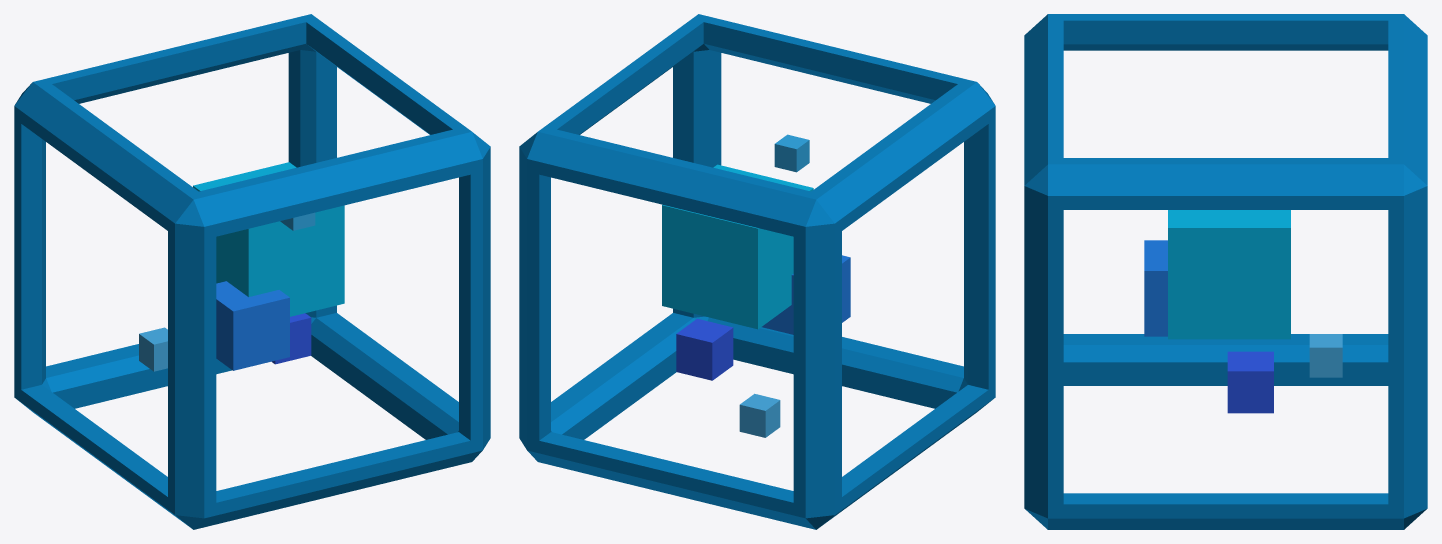
The model's file is GD3ItemBox.fbx.
3 views of the same model, side by side, from view 1: azimuth 30°, elevation 25°; view 2: azimuth 150°, elevation 25°; view 3: azimuth 270°, elevation 25° (orthographic). The views are drawn at different scales.
Parts seen in each view (by area): view 1: Cube, Cube.001, Cube.002, Cube.005, Cube.003; view 2: Cube, Cube.001, Cube.003, Cube.005, Cube.002, Cube.004; view 3: Cube, Cube.001, Cube.003, Cube.002, Cube.005.
Boxes of the visible parts, x1=… form: Cube: x1=14, y1=14, x2=490, y2=529; Cube.001: x1=193, y1=162, x2=344, y2=316; Cube.002: x1=216, y1=281, x2=289, y2=370; Cube.005: x1=139, y1=327, x2=167, y2=371; Cube.003: x1=272, y1=313, x2=311, y2=364; Cube: x1=519, y1=14, x2=995, y2=529; Cube.001: x1=662, y1=164, x2=813, y2=329; Cube.003: x1=676, y1=318, x2=733, y2=380; Cube.005: x1=739, y1=393, x2=780, y2=437; Cube.002: x1=762, y1=255, x2=850, y2=334; Cube.004: x1=774, y1=134, x2=809, y2=172; Cube: x1=1024, y1=14, x2=1427, y2=529; Cube.001: x1=1168, y1=210, x2=1290, y2=339; Cube.003: x1=1227, y1=351, x2=1273, y2=413; Cube.002: x1=1144, y1=240, x2=1167, y2=336; Cube.005: x1=1309, y1=334, x2=1342, y2=377.
Size of the model in its own units: 200 by 200 by 200.
